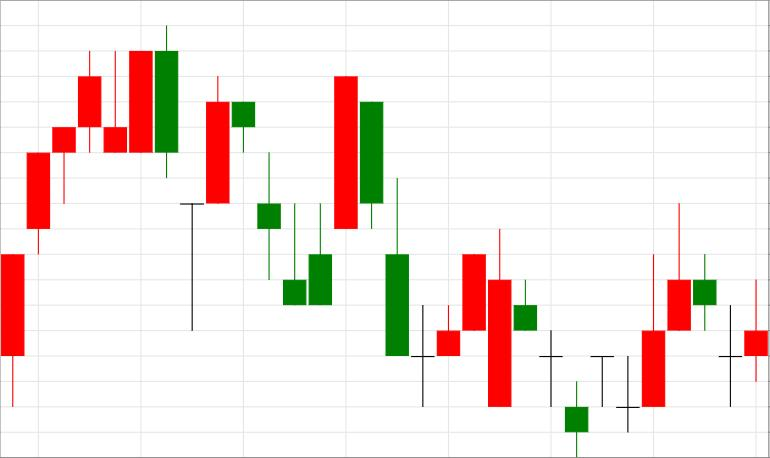bearish_engulfing_fall: (0, 26, 178, 409)
